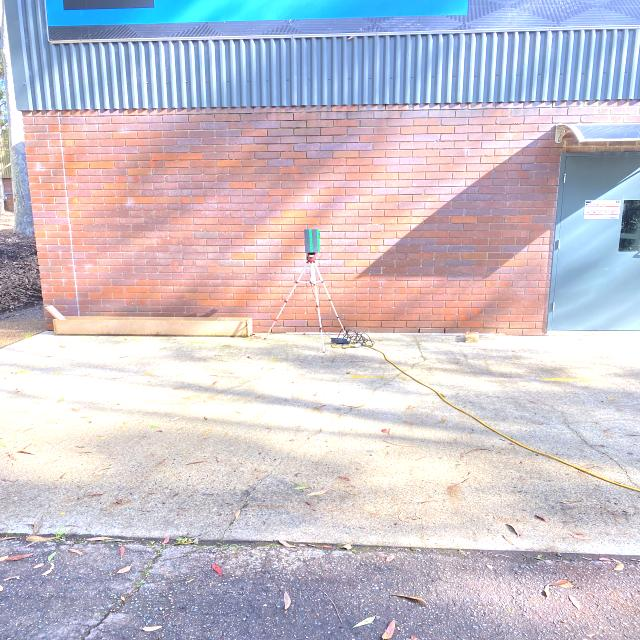matrix: (304, 228, 322, 253)
